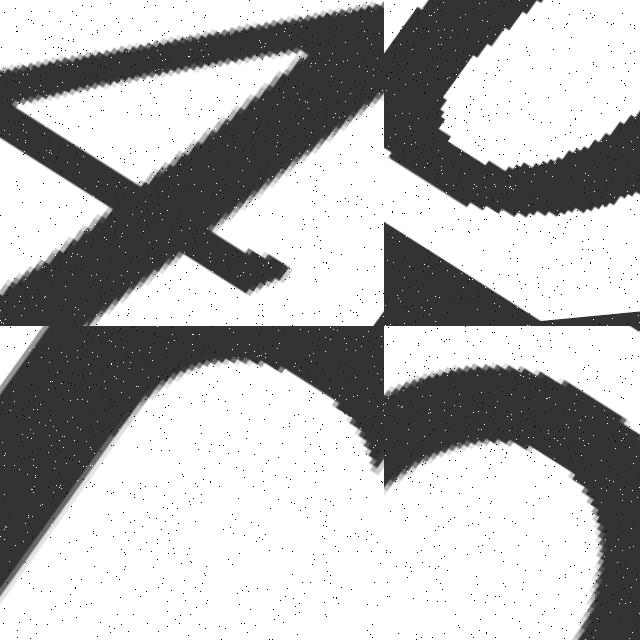6: (384, 0, 640, 326)
O: (384, 367, 640, 640)
R: (0, 326, 384, 640)
